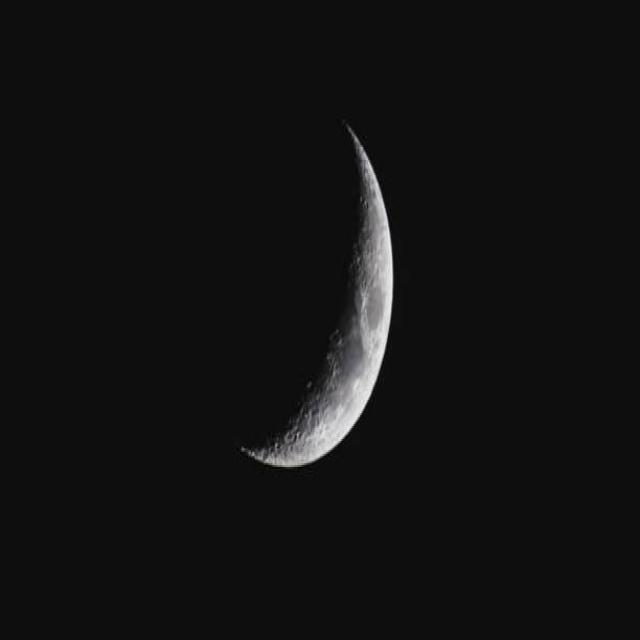moon: (174, 92, 393, 483)
